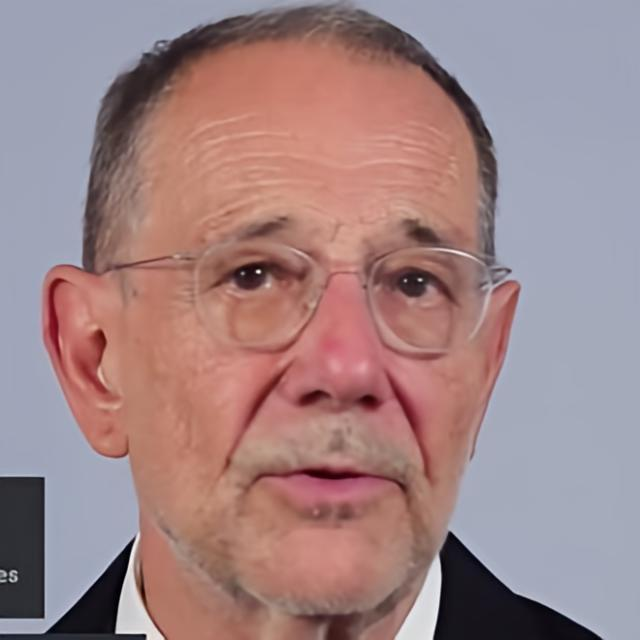sad: (132, 38, 492, 616)
